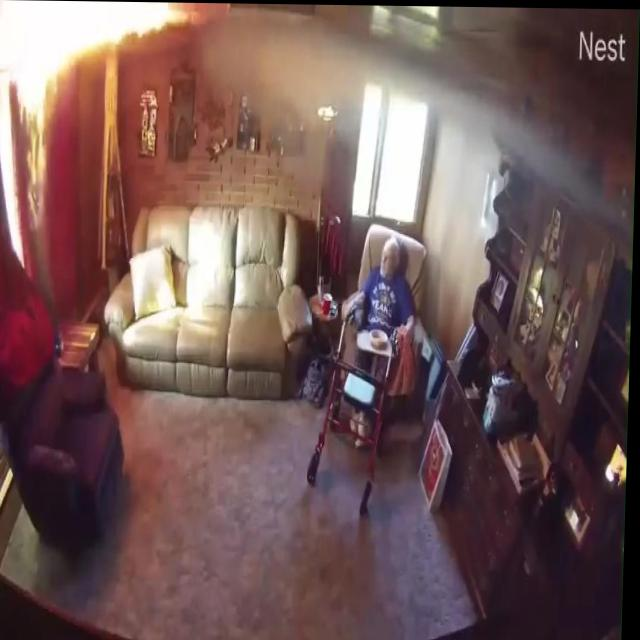fire: (1, 3, 195, 79), (0, 1, 59, 236)
